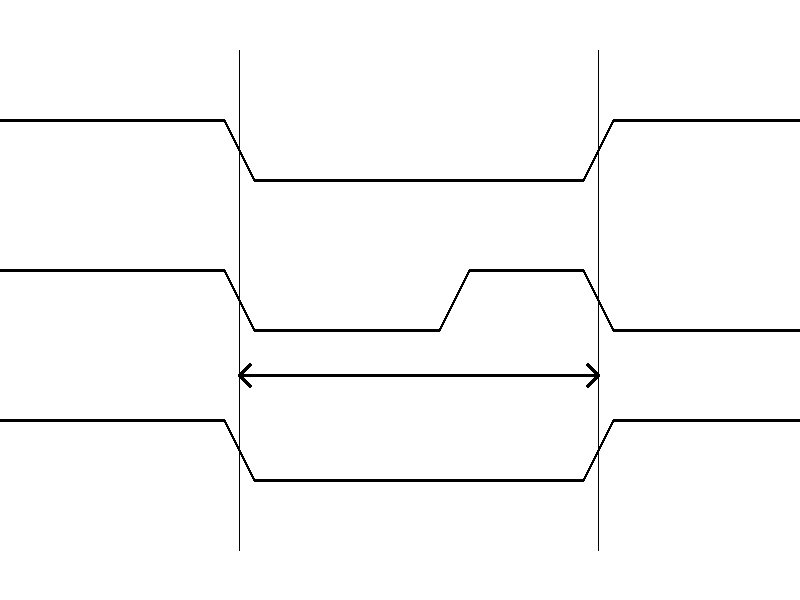double_arrow: (239, 360, 598, 390)
